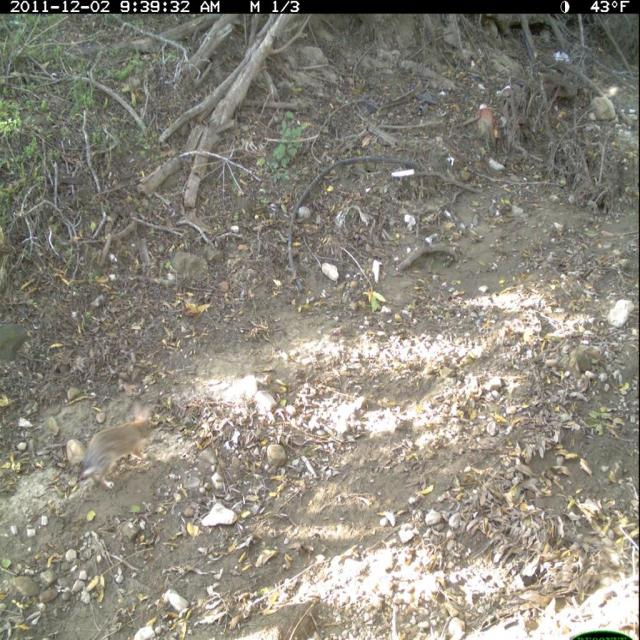rabbit: (76, 394, 159, 493)
